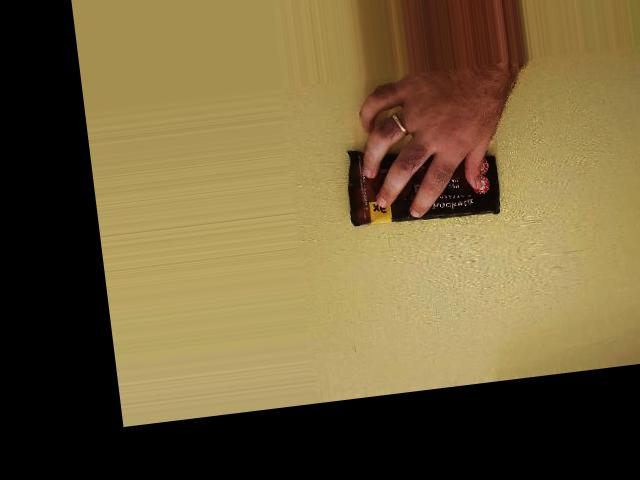chocolate: (340, 134, 508, 233)
